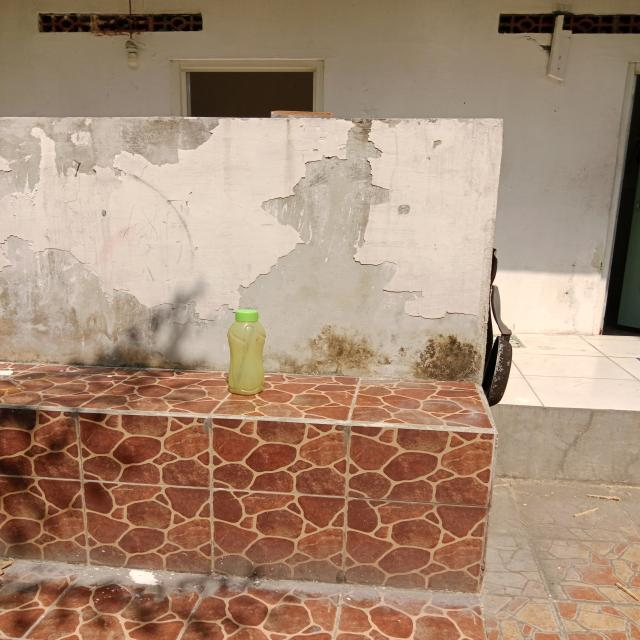botol_minum: (220, 300, 276, 403)
